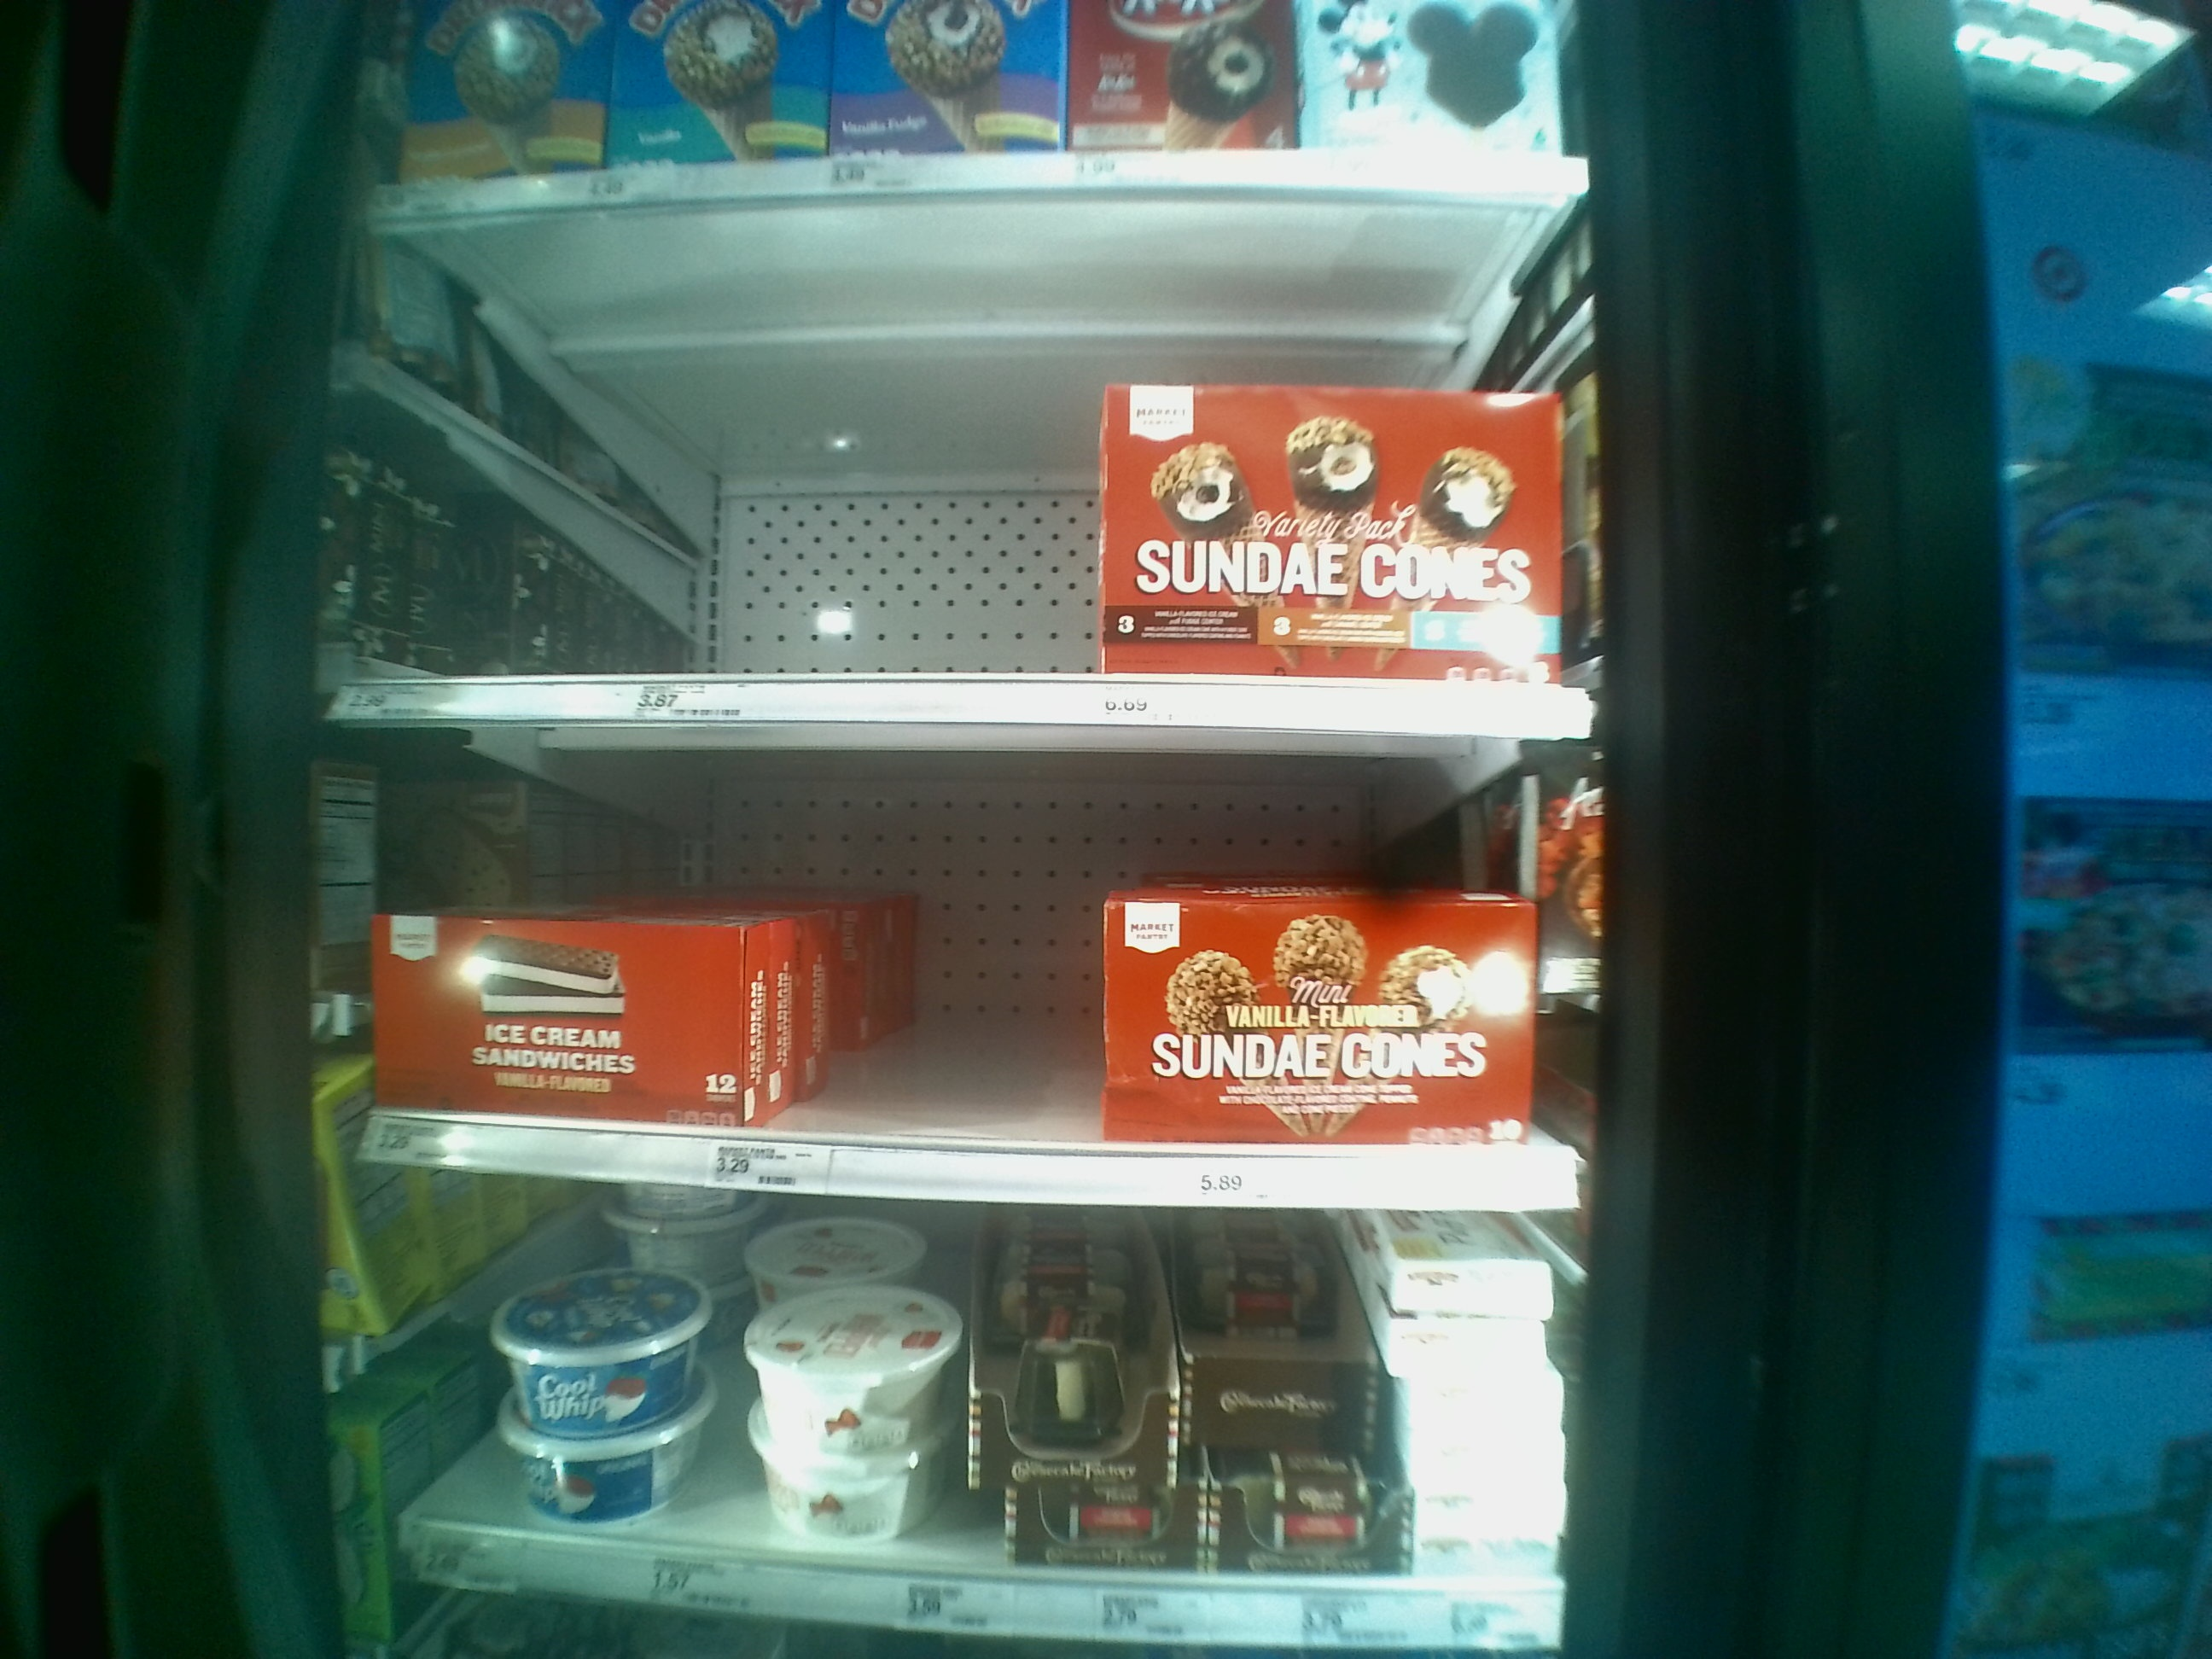shelf: (366, 186, 1587, 716), (319, 711, 1578, 1206), (388, 1138, 1578, 1633)
